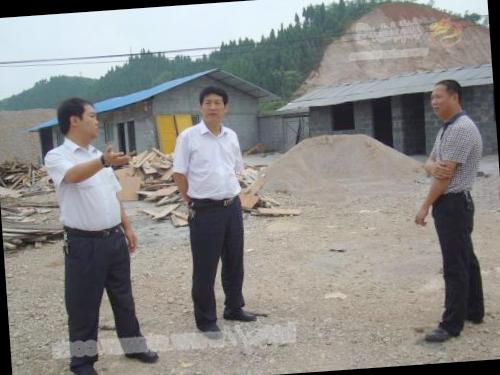no_helmet: (54, 92, 104, 144), (426, 74, 468, 120), (196, 84, 232, 127)
